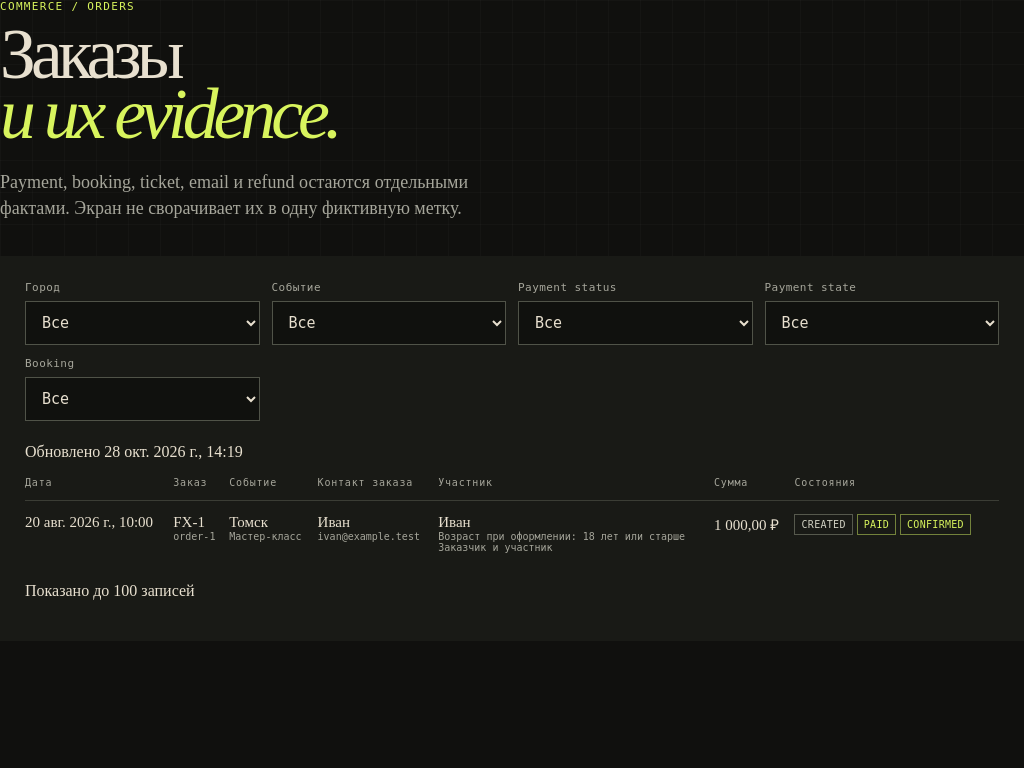
Orders › expands the clicked order inline and collapses it again on a second click
Expected: the text "Order evidence" is not shown
Click the text "FX-1". click: (189, 522)
box: [173,514,205,530]
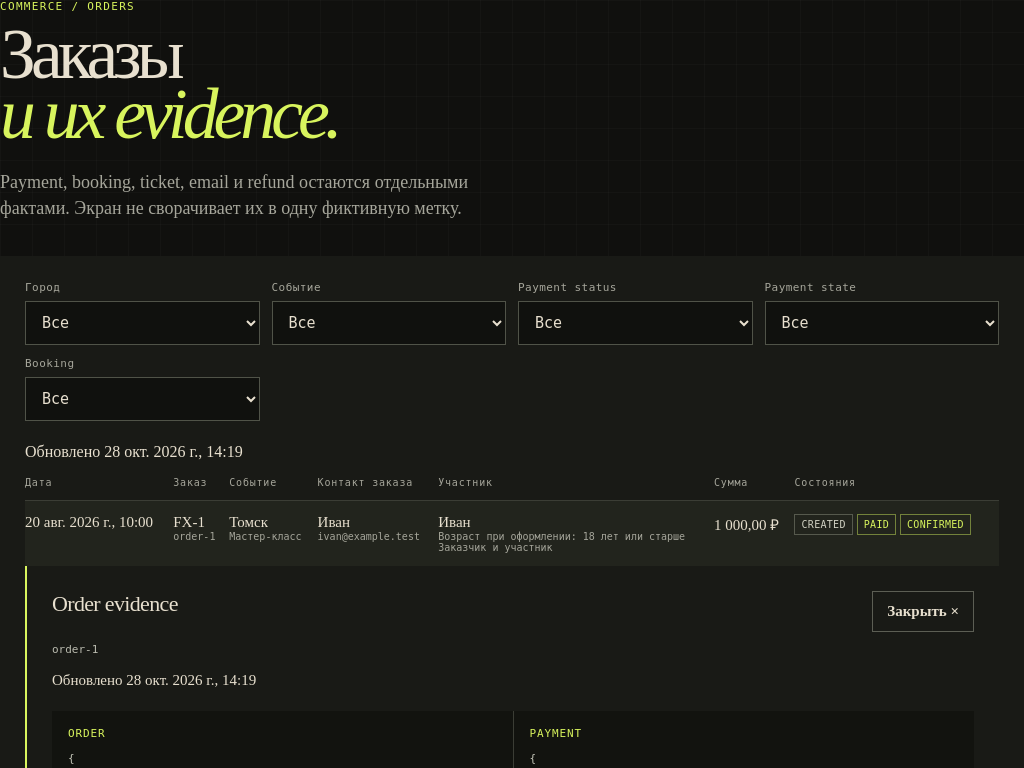
Now the heading "Order evidence" is shown, box [52,591,178,617]
Click the text "FX-1". click: (189, 522)
box: [173,514,205,530]
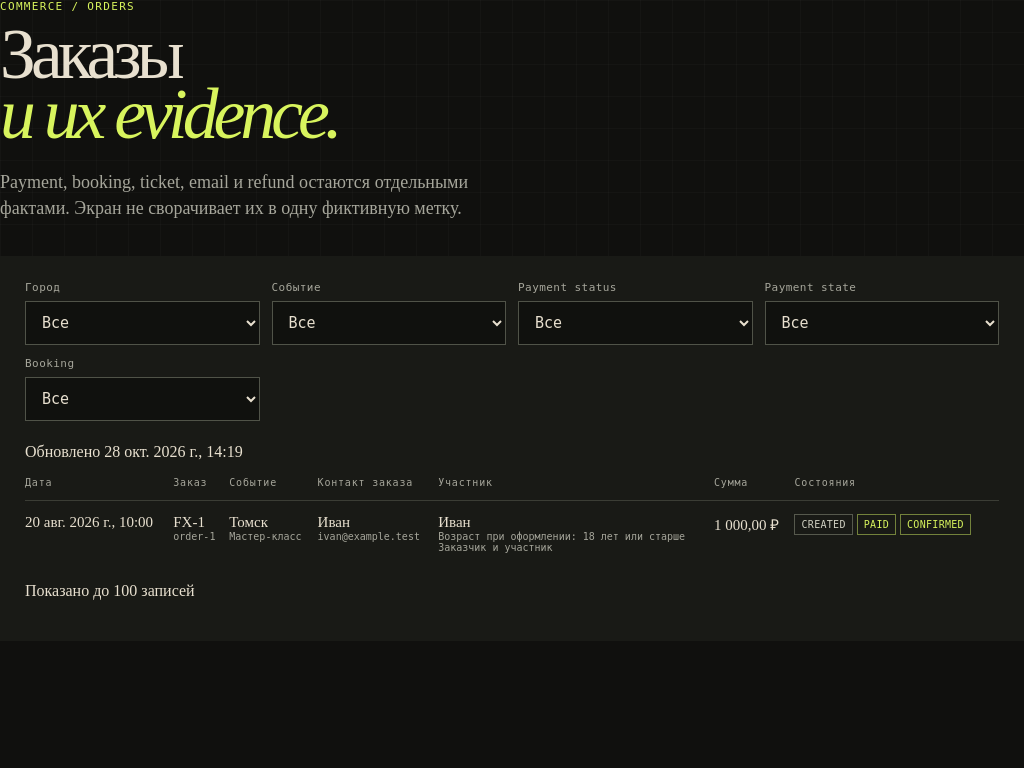
Now the heading "Order evidence" is gone
